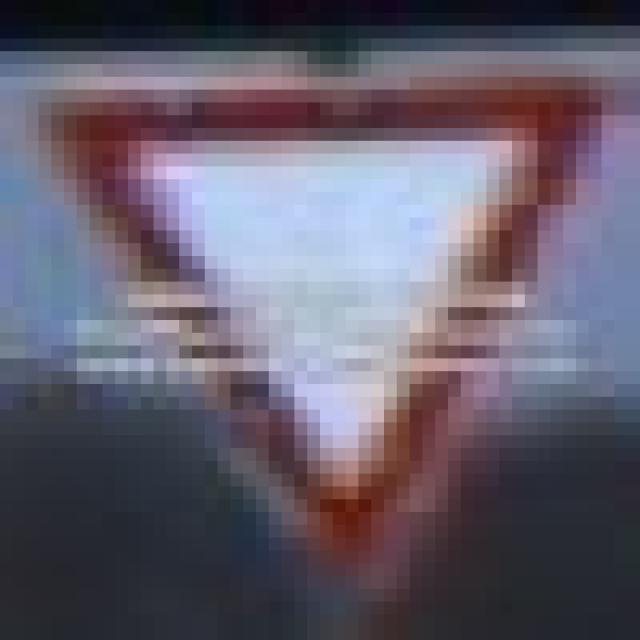gap_in_median: (38, 64, 628, 550)
